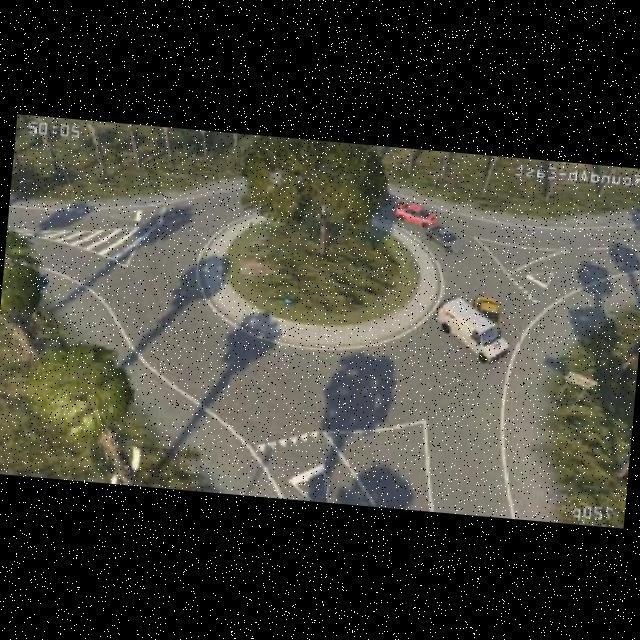accident: (450, 282, 516, 362)
